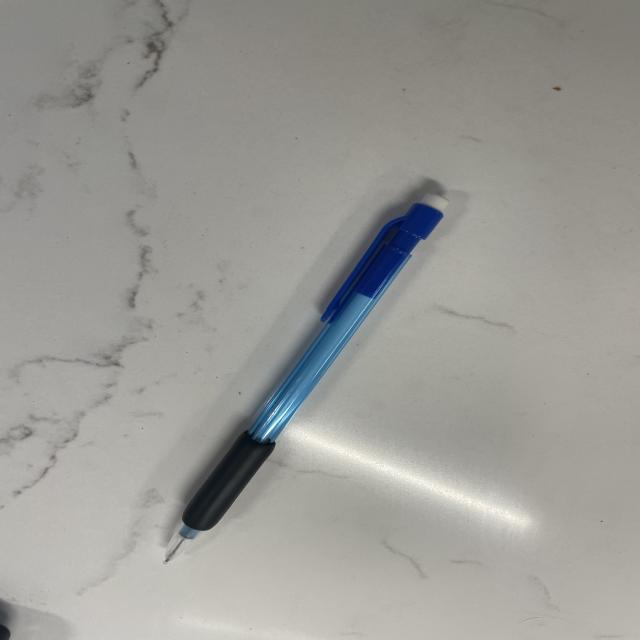mechanical-pencils: (159, 195, 450, 566)
